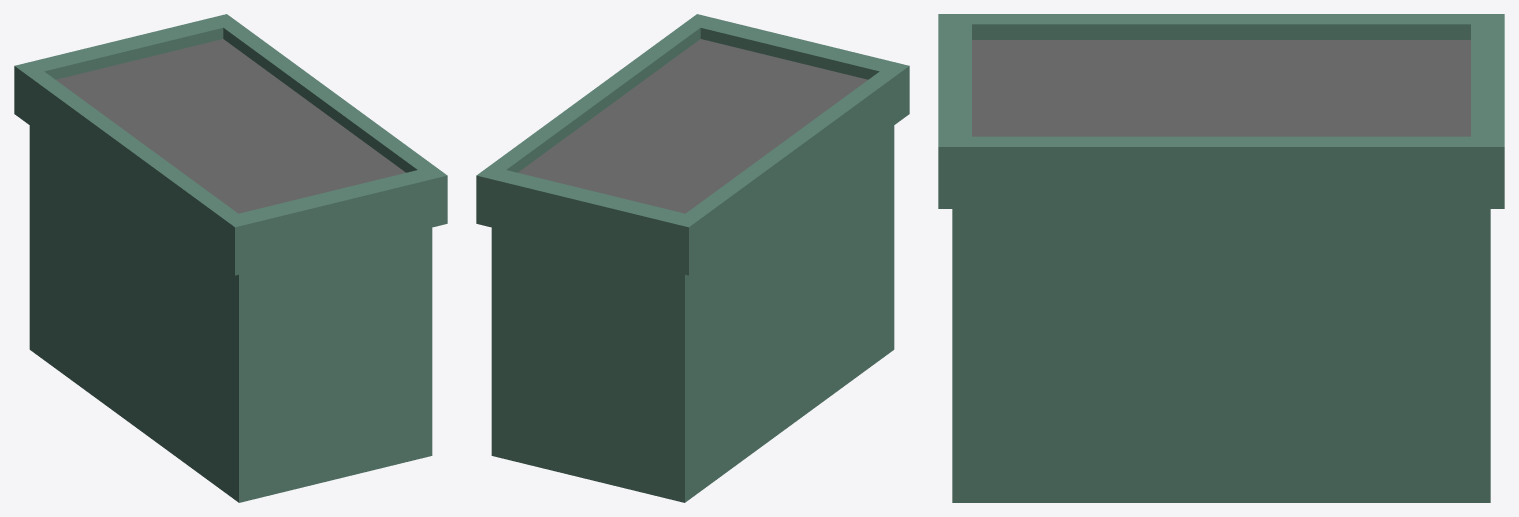
Rendered from building1.fbx.
3 views of the same model, side by side, from view 1: azimuth 30°, elevation 25°; view 2: azimuth 150°, elevation 25°; view 3: azimuth 270°, elevation 25° (orthographic). The views are drawn at different scales.
Parts seen in each view (by area): view 1: building2; view 2: building2; view 3: building2.
Part boxes in pixels (x1,y1,x2,y2): building2: [14, 14, 447, 502]; building2: [476, 14, 909, 502]; building2: [938, 14, 1504, 502].
Size of the model in its own units: 889 by 1128 by 1600.
